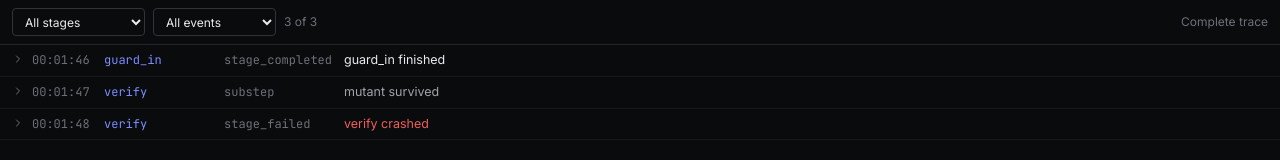
Test: Timeline › filters by event type and by stage
Check: the text "3 of 3" is shown, box 284,14 -> 317,30
Select "Problems" in the dropdown named "Filter by event type" at (214,22), box 153,8 -> 276,36
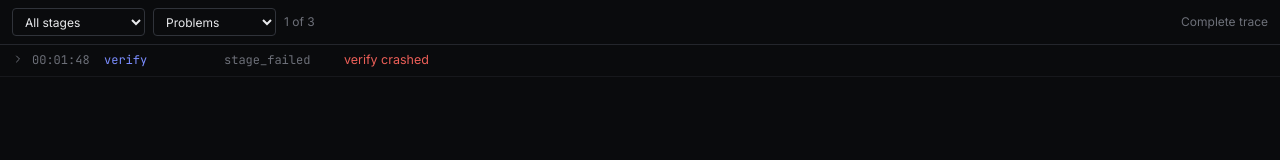
Check: the text "verify crashed" is shown, box 344,52 -> 429,67
Check: the text "1 of 3" is shown, box 284,14 -> 315,30
Select "All events" in the dropdown named "Filter by event type" at (214,22), box 153,8 -> 276,36
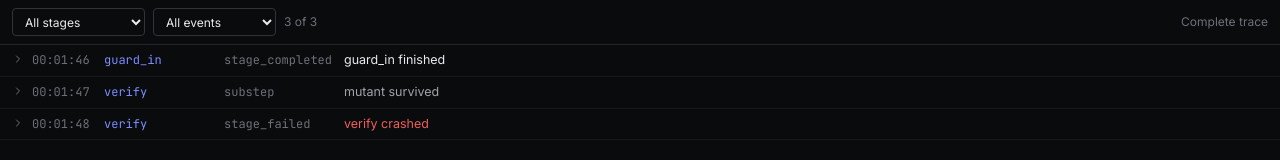
Select "Input guard" in the dropdown named "Filter by stage" at (78,22), box 12,8 -> 145,36
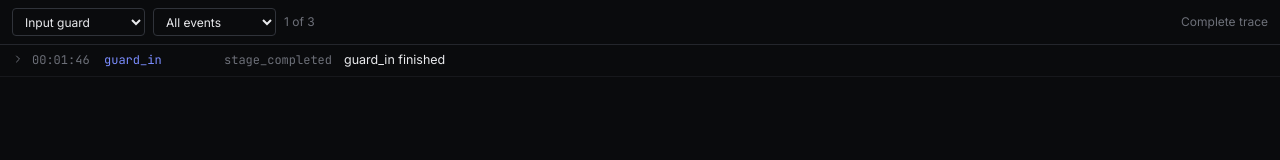
Check: the text "1 of 3" is shown, box 284,14 -> 315,30
